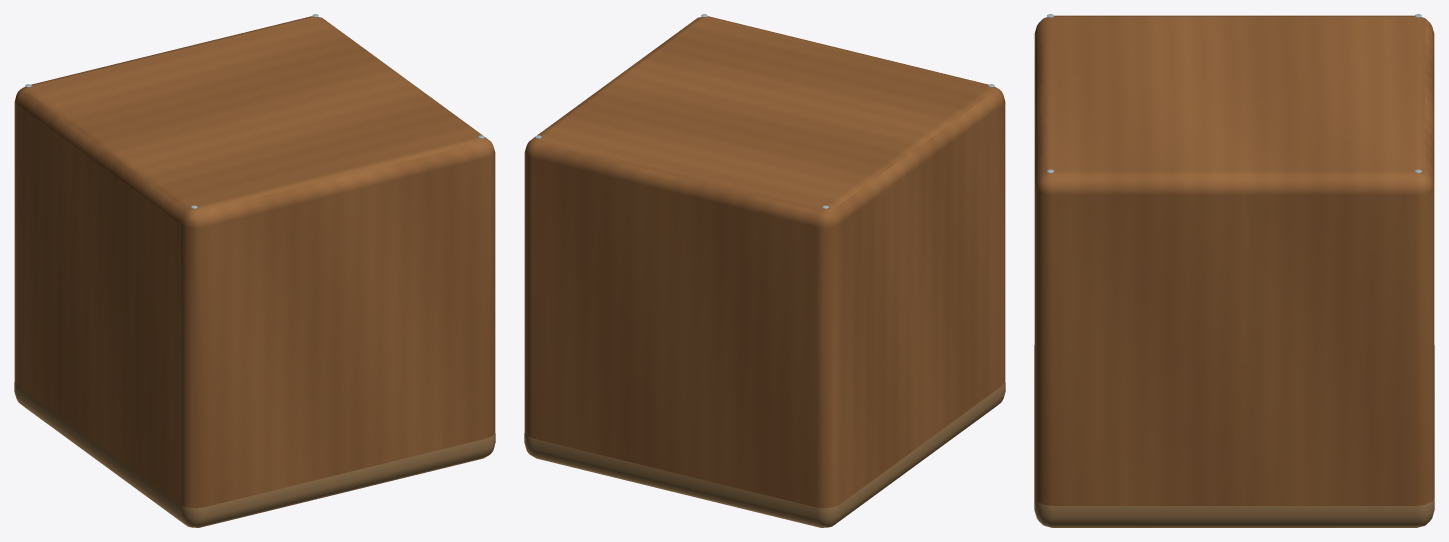
File: prop_desk.glb
The picture shows the model from 3 angles, left to right: view 1: azimuth 30°, elevation 25°; view 2: azimuth 150°, elevation 25°; view 3: azimuth 270°, elevation 25°; orthographic projection. The views are drawn at different scales.
Visible parts, largest first — view 1: Oak desktop, Rounded laminated edge; view 2: Oak desktop, Rounded laminated edge; view 3: Oak desktop, Rounded laminated edge.
Boxes of the visible parts, left/top/right/bottom form: Oak desktop: left=14, top=16, right=495, bottom=508; Rounded laminated edge: left=14, top=382, right=495, bottom=527; Oak desktop: left=524, top=16, right=1005, bottom=508; Rounded laminated edge: left=524, top=382, right=1005, bottom=527; Oak desktop: left=1034, top=15, right=1434, bottom=505; Rounded laminated edge: left=1034, top=345, right=1434, bottom=527.
Bounding box in the file's own units: 0.02 × 0.0197 × 0.02.
3 materials, 1 textured.
